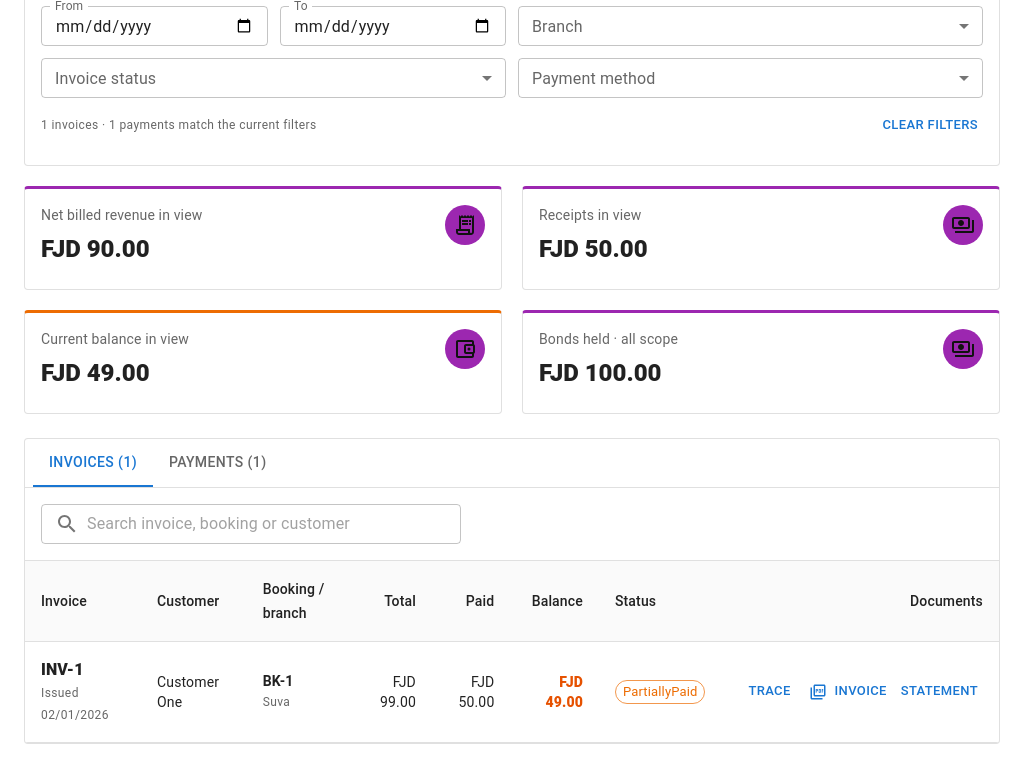
Test: filters and clears records using Fiji dates and search
(page scrolled)
Expected: the text "INV-1" is shown, 41,660 -> 84,679
Type "missing" into the field with placeholder "Search invoice, booking or customer" at {"x": 274, "y": 524}, box 87,504 -> 461,544
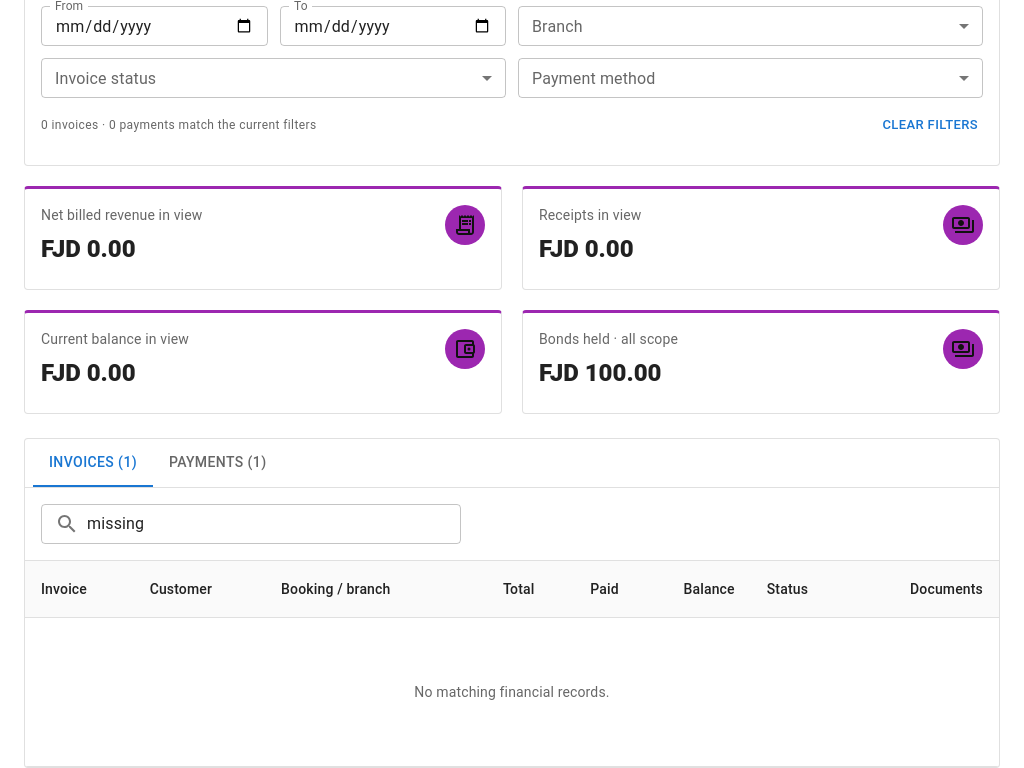
Expected: the text "No matching financial records." is shown, 25,617 -> 999,766
Click the button "Clear filters" at {"x": 930, "y": 126}, box 878,110 -> 983,141
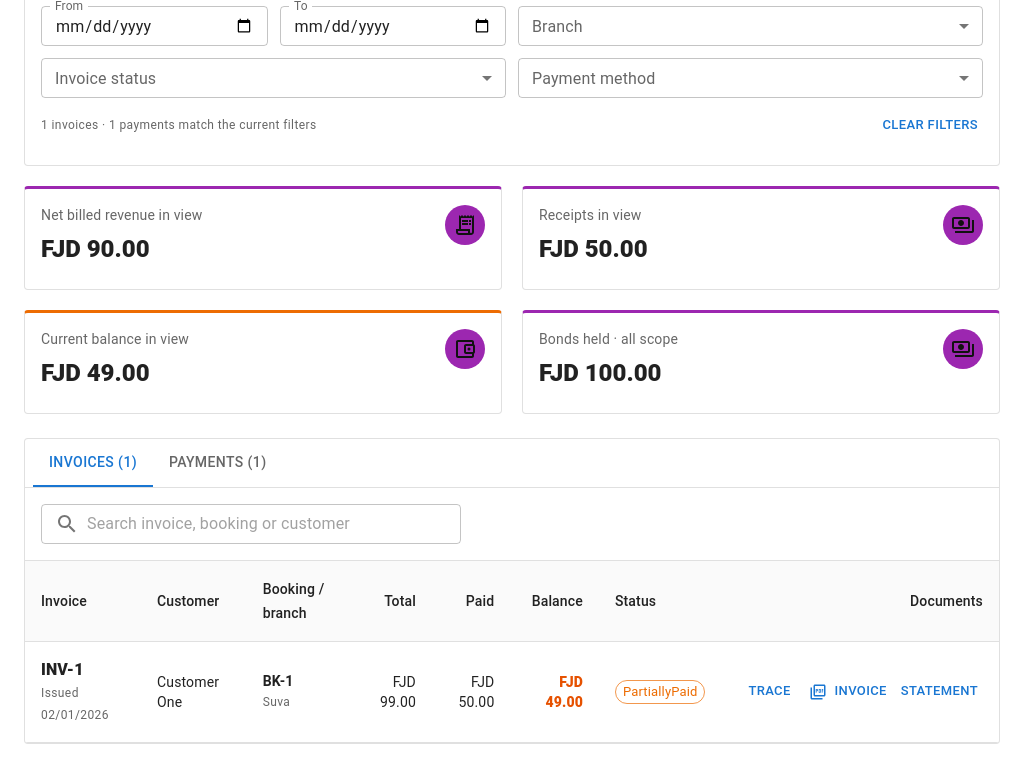
Expected: the text "INV-1" is shown, 41,660 -> 84,679
Type "2026-02-01" into the date field labelled "From" at {"x": 154, "y": 26}, box 41,6 -> 268,46
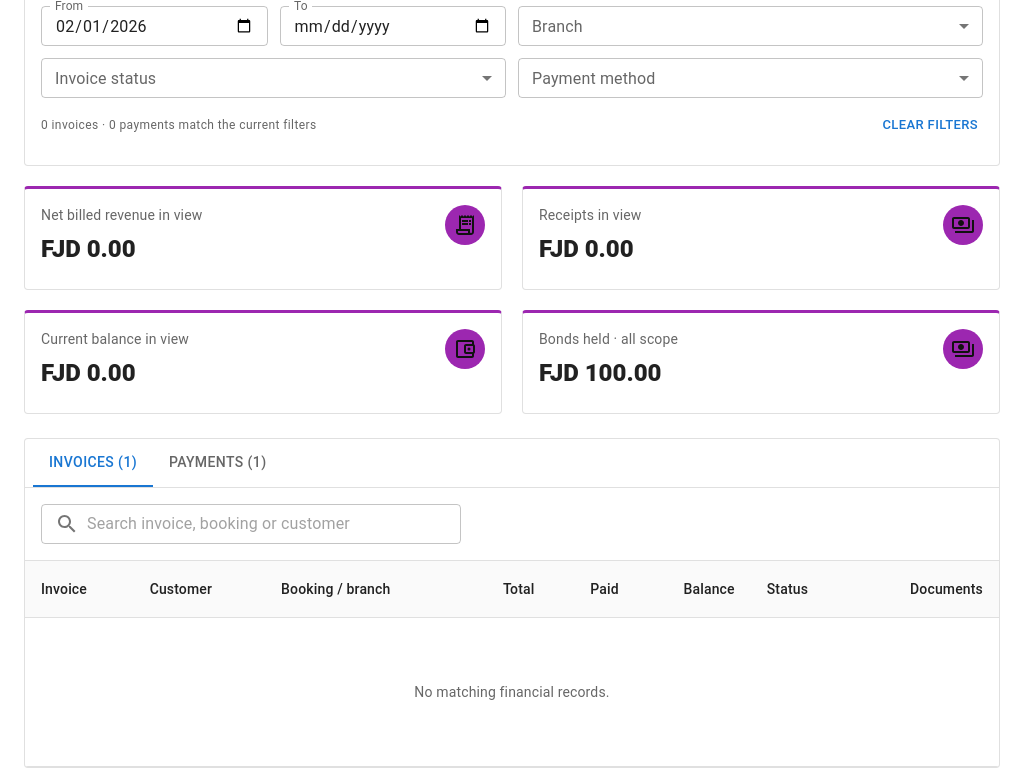
Expected: the text "No matching financial records." is shown, 25,617 -> 999,766
Click the button "Clear filters" at {"x": 930, "y": 126}, box 878,110 -> 983,141
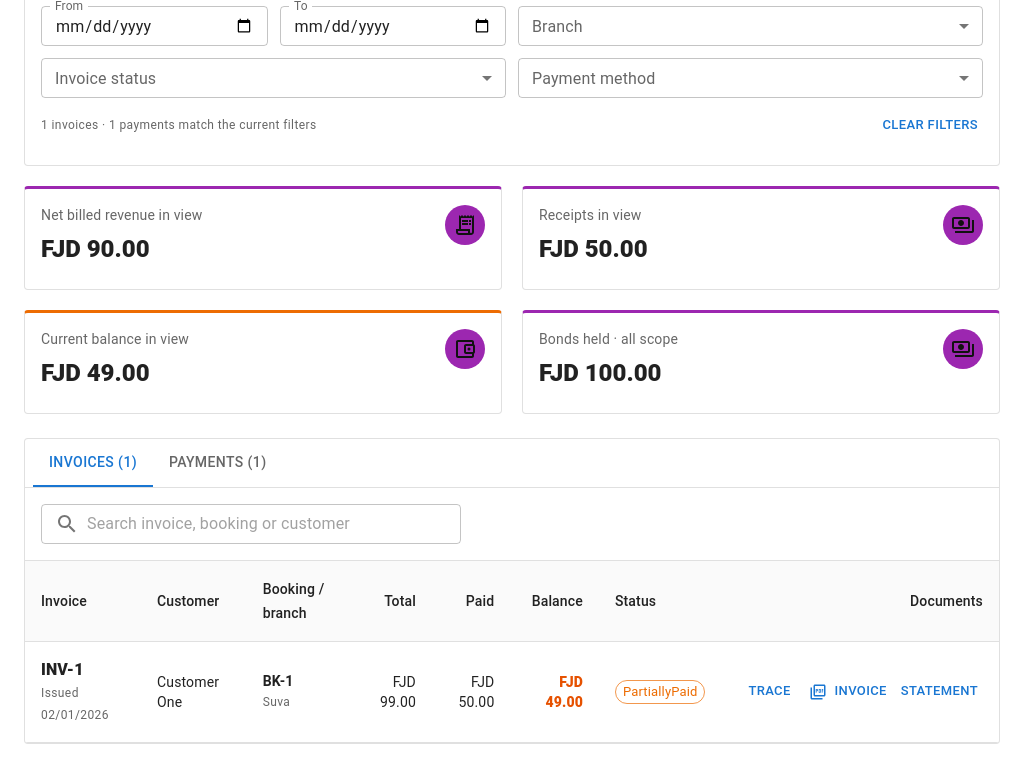
Type "2026-01-01" into the date field labelled "To" at {"x": 393, "y": 26}, box 280,6 -> 506,46
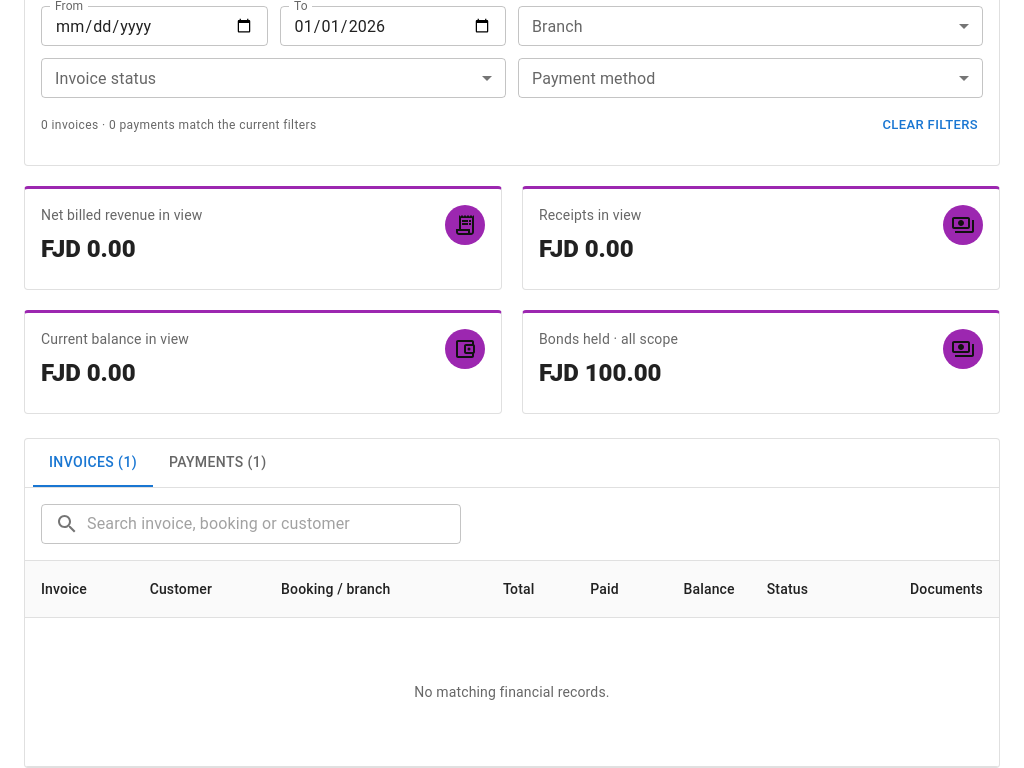
Expected: the text "No matching financial records." is shown, 25,617 -> 999,766
Click the button "Clear filters" at {"x": 930, "y": 126}, box 878,110 -> 983,141
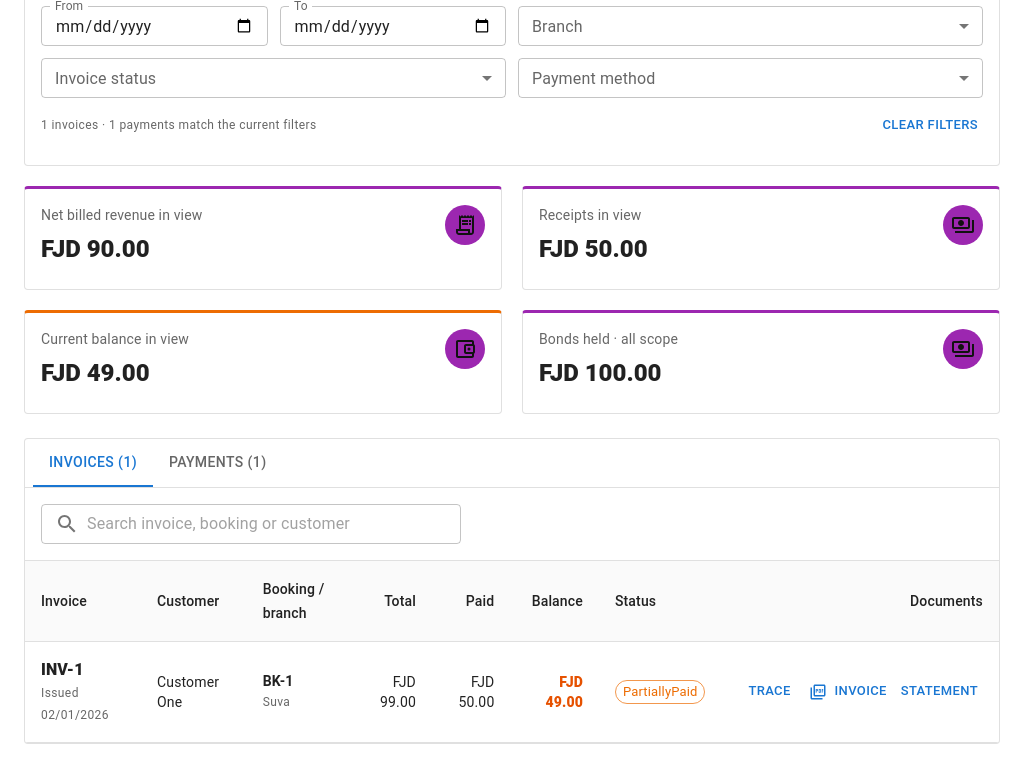
Expected: the heading "FJD 90.00" is shown, 41,235 -> 150,263
